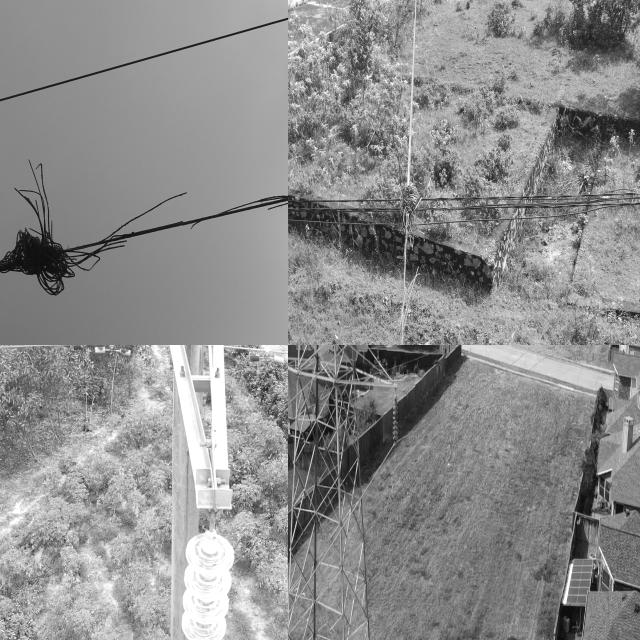杆塔: (145, 345, 252, 640), (288, 345, 383, 640)
正常绝缘子: (172, 519, 236, 640), (388, 385, 404, 461)
电缆破损: (0, 125, 288, 322), (381, 145, 430, 345)
